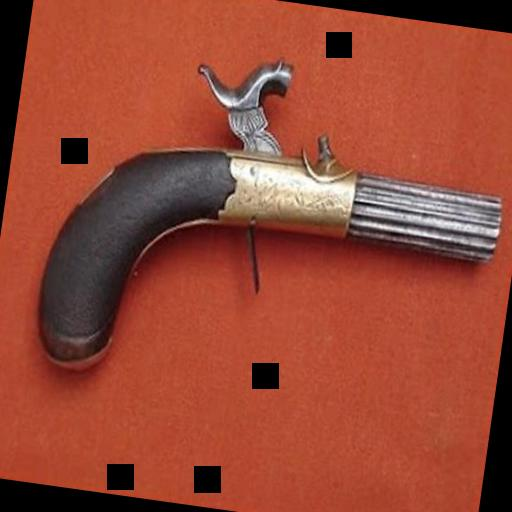Handgun: (19, 21, 512, 426)
